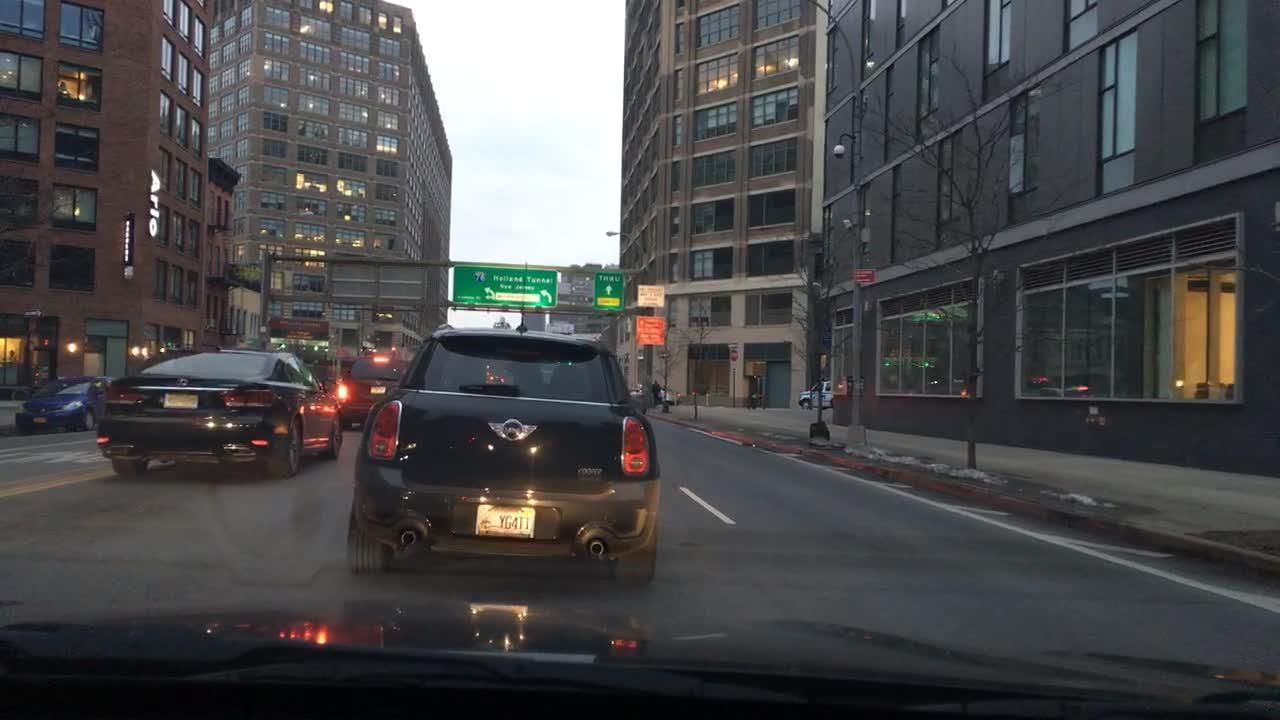mini: (482, 416, 546, 447)
